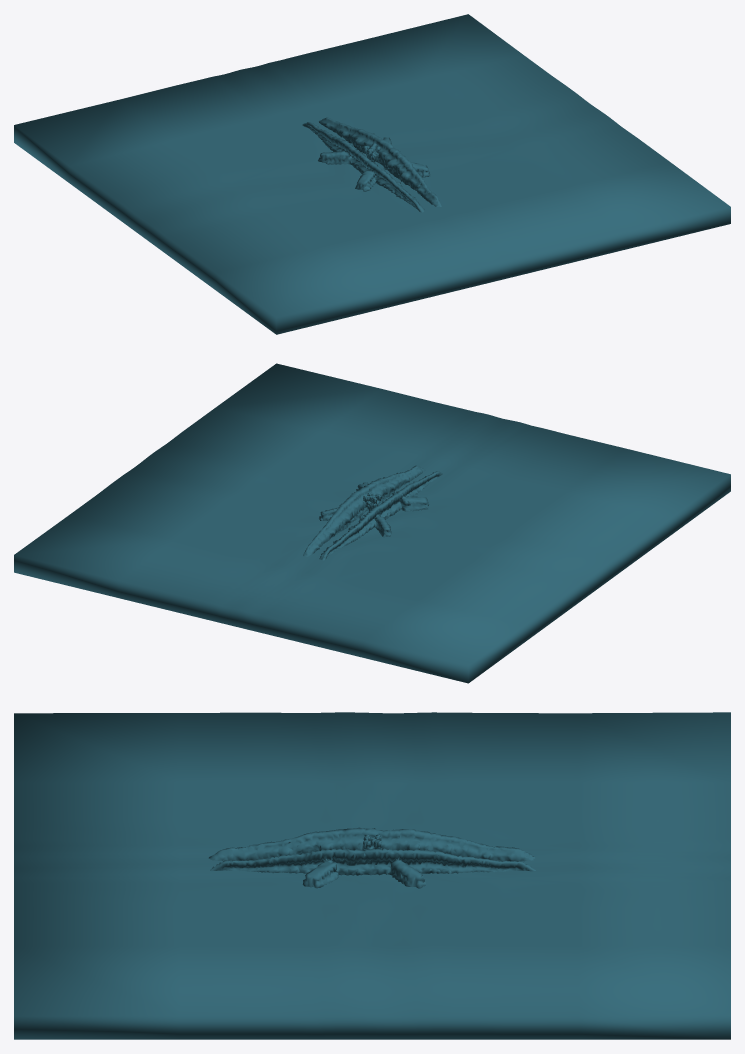
Rendered from fused-reef-terraces-medium.glb.
The picture shows the model from 3 angles, top to bottom: view 1: azimuth 30°, elevation 25°; view 2: azimuth 150°, elevation 25°; view 3: azimuth 270°, elevation 25°; orthographic projection. The views are drawn at different scales.
Parts seen in each view (by area): view 1: ISLAND_7_FUSED_REEF_BASIN_FLOOR, ISLAND_7_FUSED_RIGHT_TERRACED_BANK.001, ISLAND_7_FUSED_LEFT_TERRACED_BANK.001; view 2: ISLAND_7_FUSED_REEF_BASIN_FLOOR, ISLAND_7_FUSED_RIGHT_TERRACED_BANK.001, ISLAND_7_FUSED_LEFT_TERRACED_BANK.001; view 3: ISLAND_7_FUSED_REEF_BASIN_FLOOR, ISLAND_7_FUSED_RIGHT_TERRACED_BANK.001, ISLAND_7_FUSED_LEFT_TERRACED_BANK.001.
Part boxes in pixels (x1,y1,x2,y2): ISLAND_7_FUSED_REEF_BASIN_FLOOR: [14, 14, 730, 334]; ISLAND_7_FUSED_RIGHT_TERRACED_BANK.001: [319, 117, 441, 206]; ISLAND_7_FUSED_LEFT_TERRACED_BANK.001: [302, 122, 424, 212]; ISLAND_7_FUSED_REEF_BASIN_FLOOR: [14, 363, 730, 683]; ISLAND_7_FUSED_RIGHT_TERRACED_BANK.001: [303, 465, 425, 556]; ISLAND_7_FUSED_LEFT_TERRACED_BANK.001: [319, 471, 442, 560]; ISLAND_7_FUSED_REEF_BASIN_FLOOR: [14, 712, 730, 1039]; ISLAND_7_FUSED_RIGHT_TERRACED_BANK.001: [210, 848, 535, 888]; ISLAND_7_FUSED_LEFT_TERRACED_BANK.001: [208, 827, 535, 861].
Bounding box in the file's own units: 520 × 40.17 × 520.
